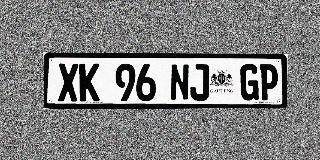6: (136, 64, 156, 101)
9: (116, 64, 135, 101)
G: (240, 64, 259, 100)
J: (190, 64, 209, 101)
K: (79, 63, 100, 101)
N: (170, 64, 189, 101)
P: (259, 64, 278, 100)
X: (58, 63, 79, 102)
